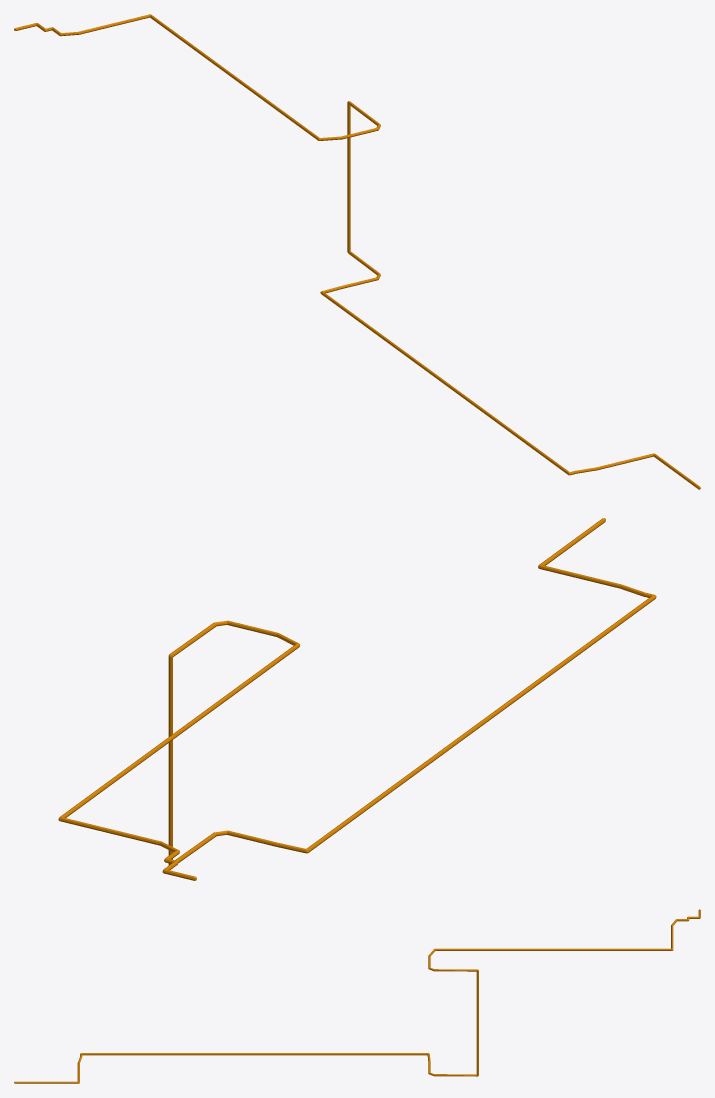
3 views of the same model, one above another, from view 1: azimuth 30°, elevation 25°; view 2: azimuth 150°, elevation 25°; view 3: azimuth 270°, elevation 25° (orthographic). The views are drawn at different scales.
Bounding box in the file's own units: 1394 × 1020 × 5932.
